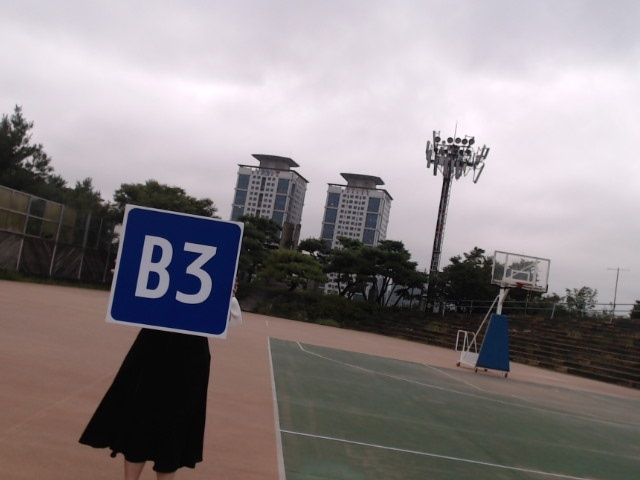delivery_b3: (109, 206, 244, 335)
